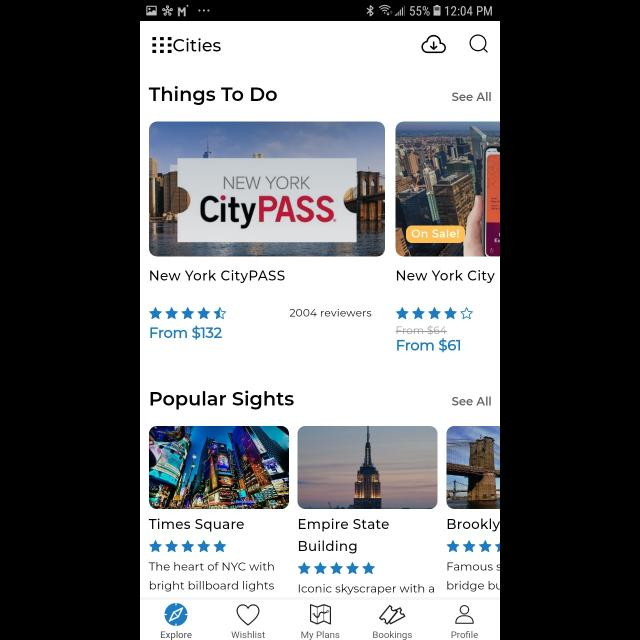icon: (396, 306, 474, 320), (298, 562, 376, 574), (150, 540, 227, 552), (150, 308, 227, 320), (446, 540, 499, 552), (378, 605, 406, 625), (165, 602, 188, 626), (237, 603, 260, 625), (422, 34, 446, 54), (310, 604, 332, 624), (454, 606, 474, 624), (470, 34, 488, 54), (152, 38, 172, 54)
image: (149, 121, 385, 256), (396, 121, 500, 256), (298, 426, 438, 509), (149, 426, 289, 509), (446, 426, 499, 509)
text: (149, 562, 275, 592), (299, 518, 389, 554), (150, 390, 294, 410), (149, 86, 277, 105), (150, 269, 286, 283), (448, 562, 500, 592), (397, 270, 495, 284), (298, 584, 434, 594), (150, 518, 244, 532), (396, 338, 460, 354), (151, 326, 223, 340), (289, 308, 371, 318), (448, 518, 500, 532), (174, 39, 222, 53), (396, 326, 448, 336), (452, 396, 492, 406), (452, 92, 491, 102), (373, 630, 412, 640), (302, 630, 340, 640), (160, 630, 192, 640), (232, 632, 266, 638), (450, 632, 478, 638)
textbutton: (406, 225, 464, 243)
uppertaskbar: (140, 1, 500, 22)
